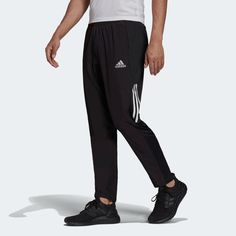adidas Originale: (110, 54, 131, 73)
